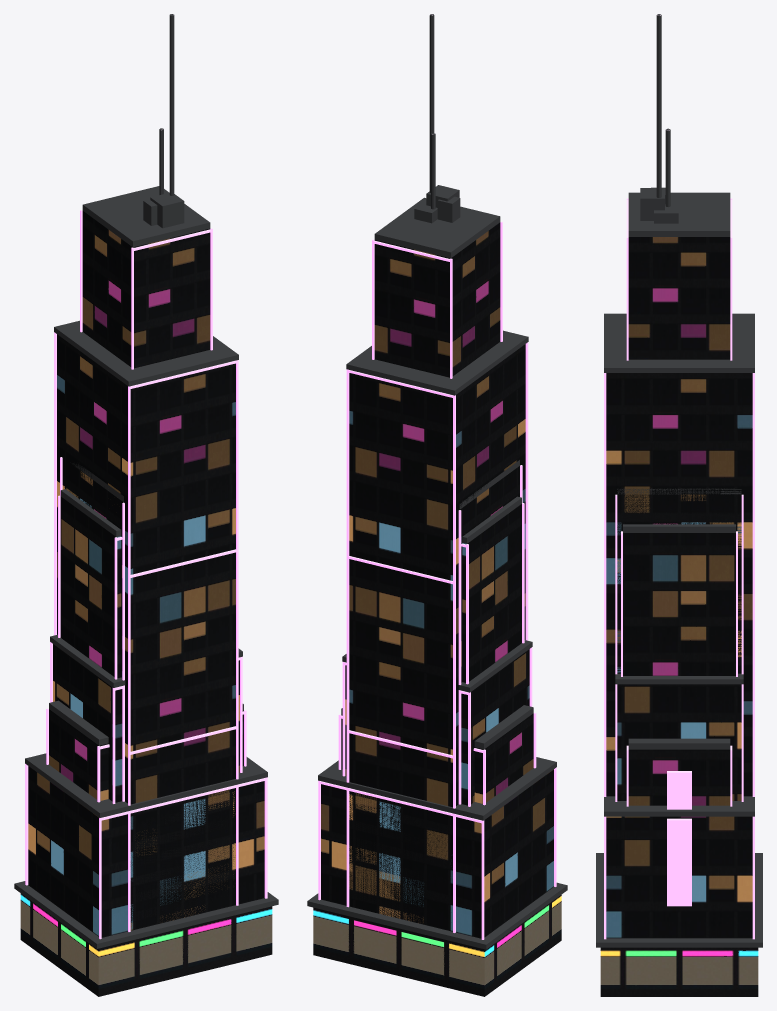
Rendered from neon-towers.glb.
3 views of the same model, side by side, from view 1: azimuth 30°, elevation 25°; view 2: azimuth 150°, elevation 25°; view 3: azimuth 270°, elevation 25° (orthographic). The views are drawn at different scales.
Visible parts, largest first — view 1: NeonTowerE, NeonTowerF, NeonTowerB, NeonTowerD, NeonTowerA; view 2: NeonTowerE, NeonTowerF, NeonTowerB, NeonTowerD, NeonTowerA; view 3: NeonTowerE, NeonTowerF, NeonTowerB, NeonTowerD, NeonTowerA, NeonTowerC.
Boxes of the visible parts, x1,y1,x2,y2 form: NeonTowerE: (54, 14, 249, 988); NeonTowerF: (14, 489, 278, 996); NeonTowerB: (50, 634, 242, 803); NeonTowerD: (46, 700, 246, 802); NeonTowerA: (60, 457, 124, 801); NeonTowerE: (336, 14, 528, 989); NeonTowerF: (307, 496, 567, 996); NeonTowerB: (342, 640, 532, 806); NeonTowerD: (338, 705, 536, 805); NeonTowerA: (458, 460, 522, 804); NeonTowerE: (596, 14, 762, 928); NeonTowerF: (596, 524, 762, 996); NeonTowerB: (615, 673, 743, 801); NeonTowerD: (626, 738, 732, 809); NeonTowerA: (615, 488, 743, 674); NeonTowerC: (665, 128, 670, 206).
Size of the model in its own units: 18.8 by 92.6 by 14.8.
Materials: 4 (2 with a texture image).
